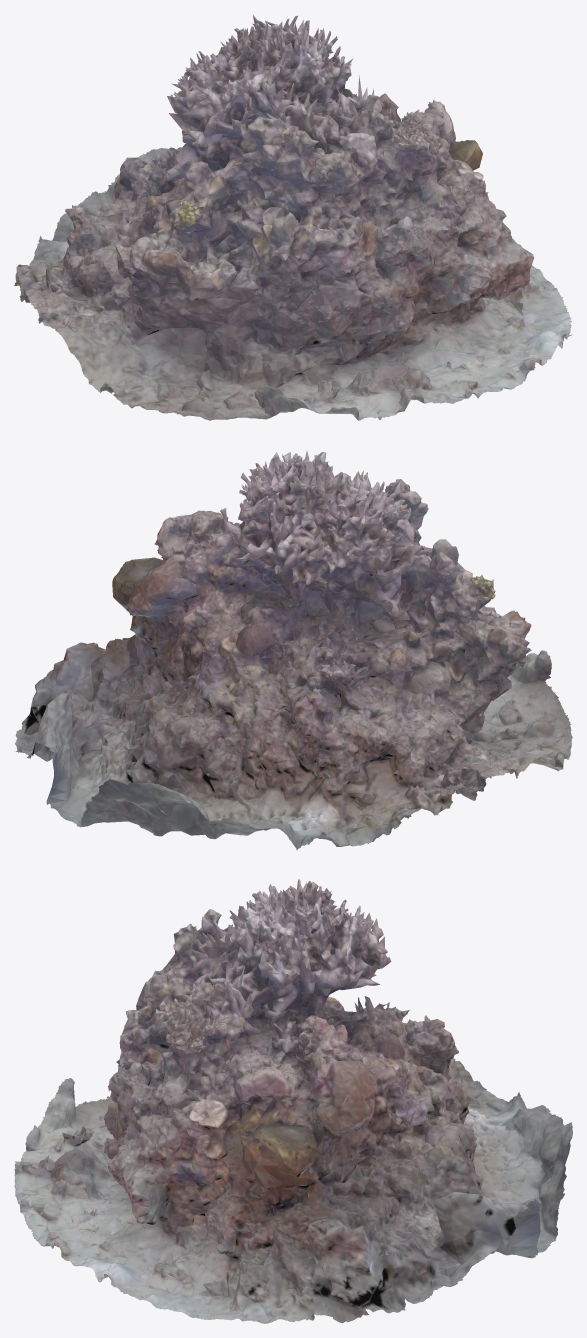
File: okinawa_acropora_patch.glb
The picture shows the model from 3 angles, top to bottom: view 1: azimuth 30°, elevation 25°; view 2: azimuth 150°, elevation 25°; view 3: azimuth 270°, elevation 25°; orthographic projection.
Parts seen in each view (by area): view 1: Model_material0_0 (×10); view 2: Model_material0_0 (×10); view 3: Model_material0_0 (×9).
Boxes of the visible parts, x1,y1,x2,y2 form: Model_material0_0 (×10): [14, 14, 572, 420]; Model_material0_0 (×10): [14, 450, 572, 849]; Model_material0_0 (×9): [14, 879, 572, 1323].
Size of the model in its own units: 7.12 by 4.36 by 7.11.
Materials: 1 (1 with a texture image).
